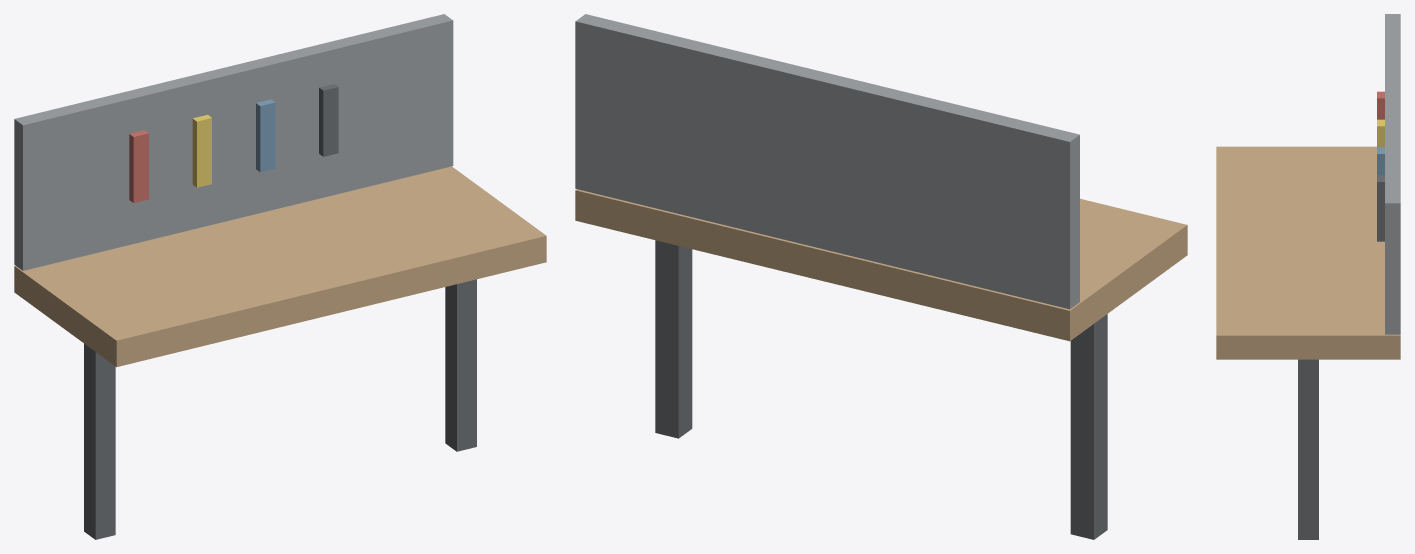
File: workbench_05.glb
The picture shows the model from 3 angles, left to right: view 1: azimuth 30°, elevation 25°; view 2: azimuth 150°, elevation 25°; view 3: azimuth 270°, elevation 25°; orthographic projection. The views are drawn at different scales.
Visible parts, largest first — view 1: backsplash, top, leg-0.714, leg0.714, tool1, tool3, tool0, tool2; view 2: backsplash, top, leg-0.714, leg0.714; view 3: top, backsplash, leg0.714, tool3.
Boxes of the visible parts, <box> form: backsplash: <box>14,14,453,270</box>; top: <box>14,166,546,367</box>; leg-0.714: <box>84,343,115,539</box>; leg0.714: <box>445,279,476,451</box>; tool1: <box>192,114,211,187</box>; tool3: <box>319,84,338,156</box>; tool0: <box>129,130,148,202</box>; tool2: <box>256,99,275,172</box>; backsplash: <box>575,14,1079,309</box>; top: <box>575,189,1187,341</box>; leg-0.714: <box>1070,314,1107,539</box>; leg0.714: <box>655,240,692,438</box>; top: <box>1216,146,1400,359</box>; backsplash: <box>1385,14,1400,334</box>; leg0.714: <box>1298,359,1318,539</box>; tool3: <box>1377,175,1384,241</box>.
Bounding box in the file's own units: 1.7 × 1.46 × 0.7.
